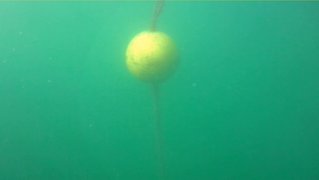buoy: (125, 30, 181, 84)
